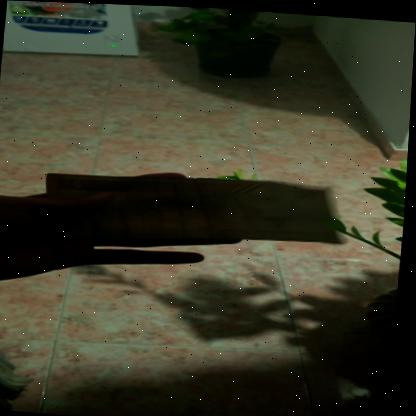five-back-vef: (42, 164, 352, 257)
